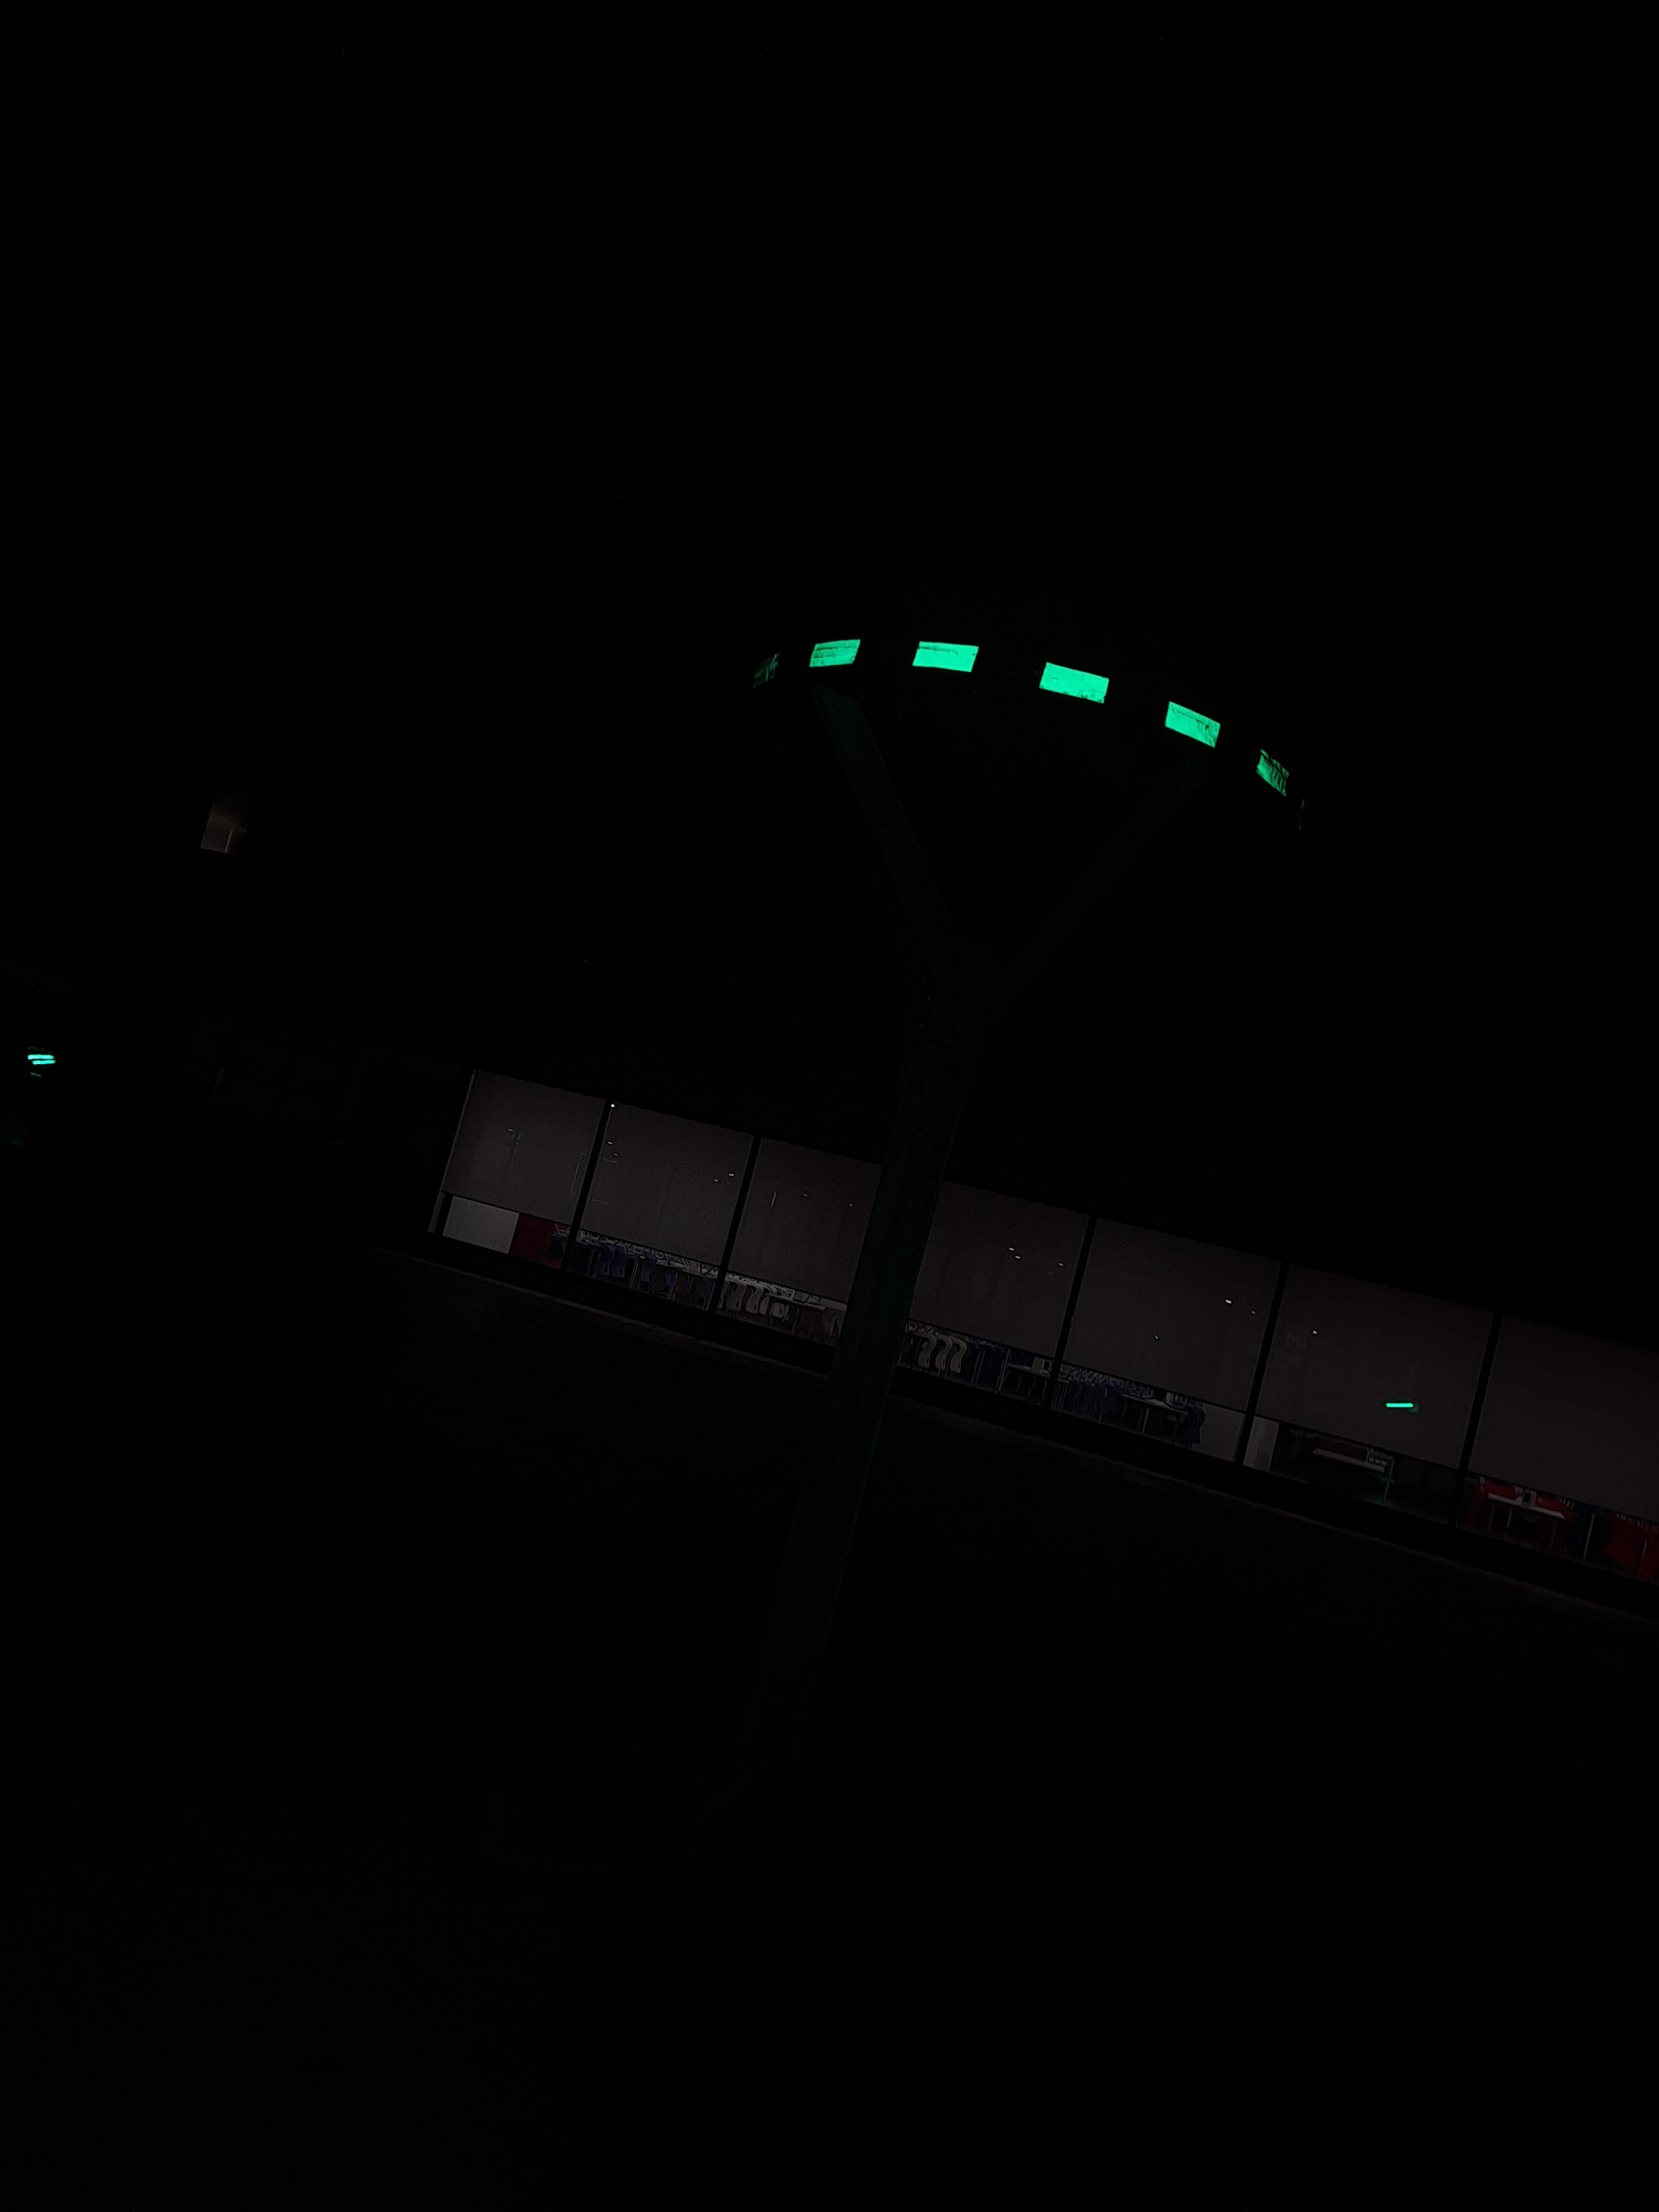hoop: (803, 620, 1293, 806)
